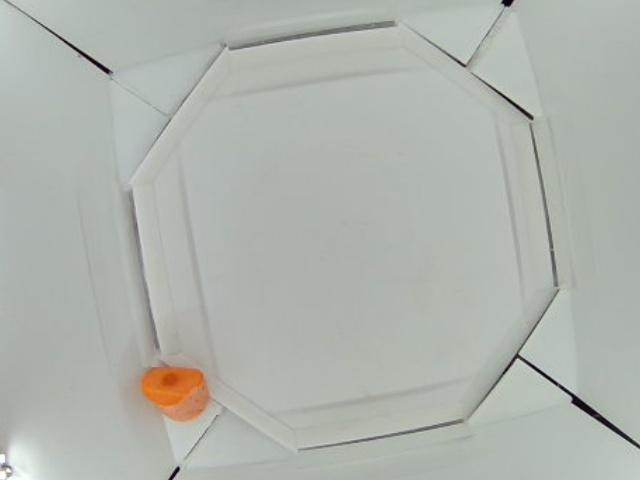Carrot: (143, 365, 210, 420)
